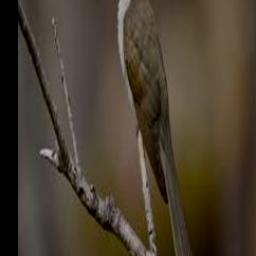Cuckoo: (111, 0, 199, 256)
